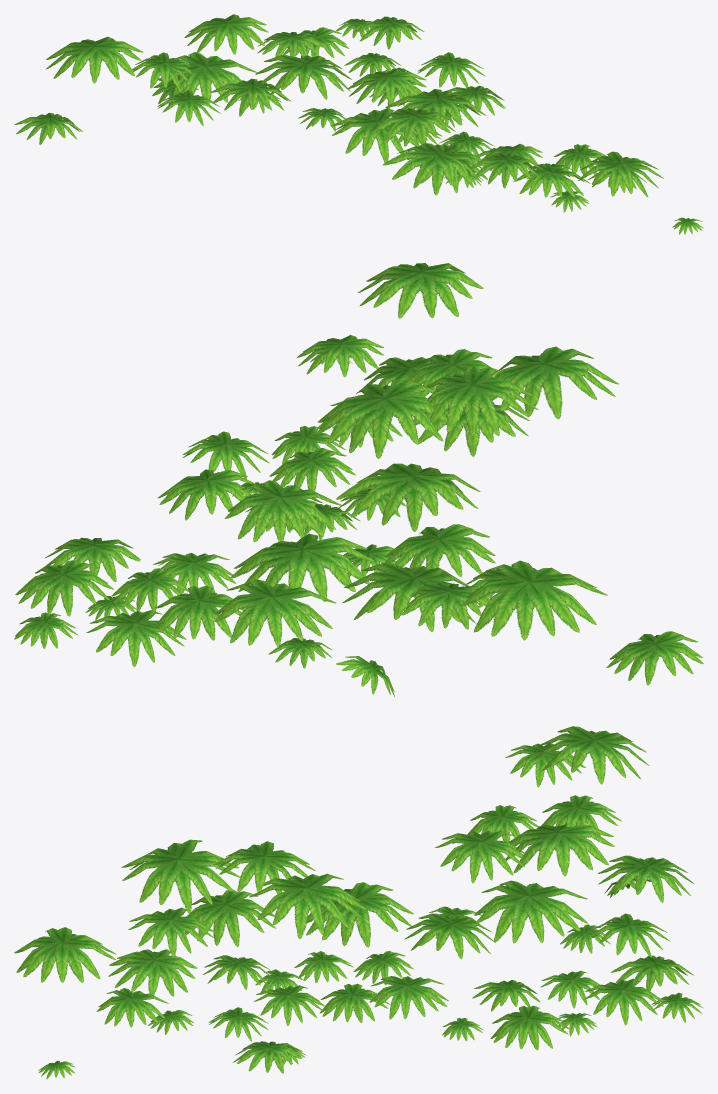
File: PalmCrownsCenterShape.dae
3 renders of one model, top to bottom at view 1: azimuth 30°, elevation 25°; view 2: azimuth 150°, elevation 25°; view 3: azimuth 270°, elevation 25°, orthographic. The views are drawn at different scales.
Parts seen in each view (by area): view 1: PalmCrownsCenter; view 2: PalmCrownsCenter; view 3: PalmCrownsCenter.
Boxes of the visible parts, x1,y1,x2,y2 form: PalmCrownsCenter: (14, 14, 703, 234); PalmCrownsCenter: (14, 263, 703, 697); PalmCrownsCenter: (14, 726, 703, 1079).
Bounding box in the file's own units: 163 × 38.46 × 173.
